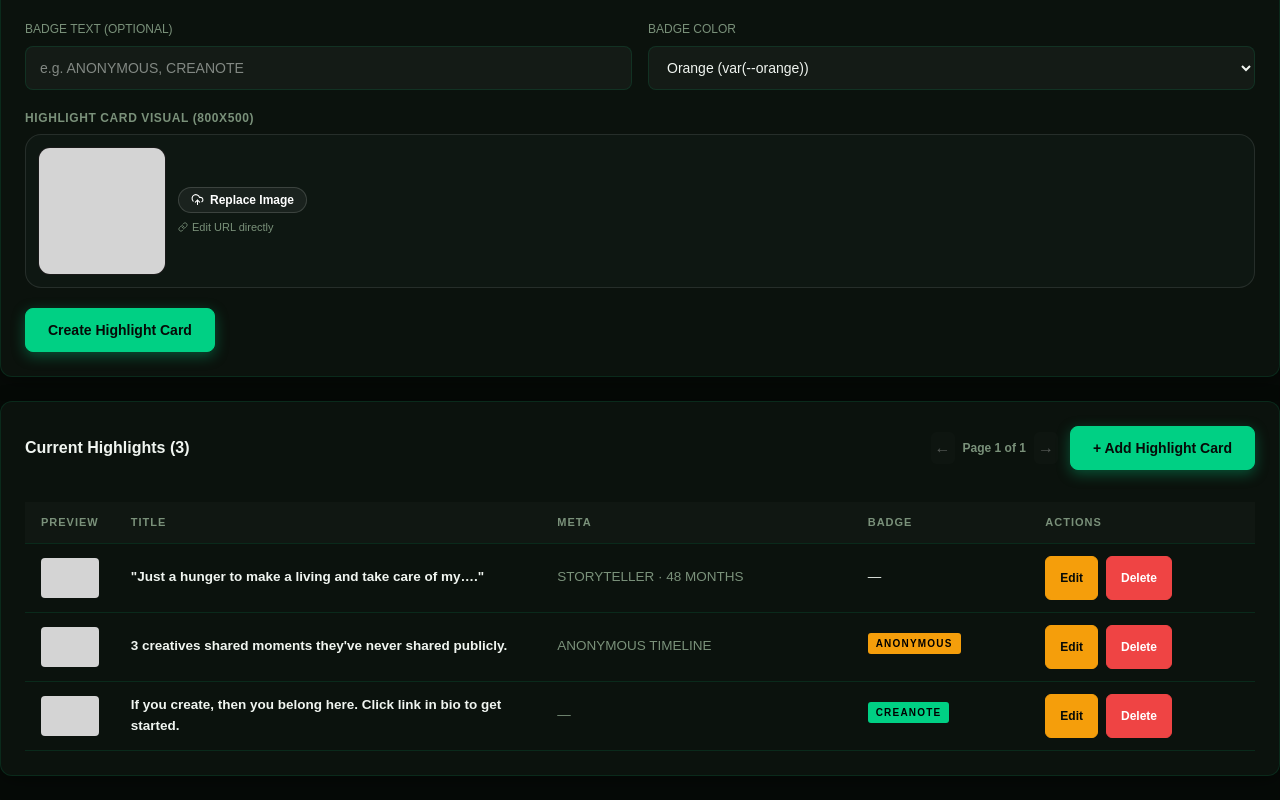
Test: Milestone 5: Admin CMS Dashboard Components › TopListManager displays current items and handles edit click
(page scrolled)
Note: Click Edit on the first item
Click the button with test id "edit-top-btn-0". click: click(1072, 578)
box: 1045,556 -> 1098,600
(page scrolled)
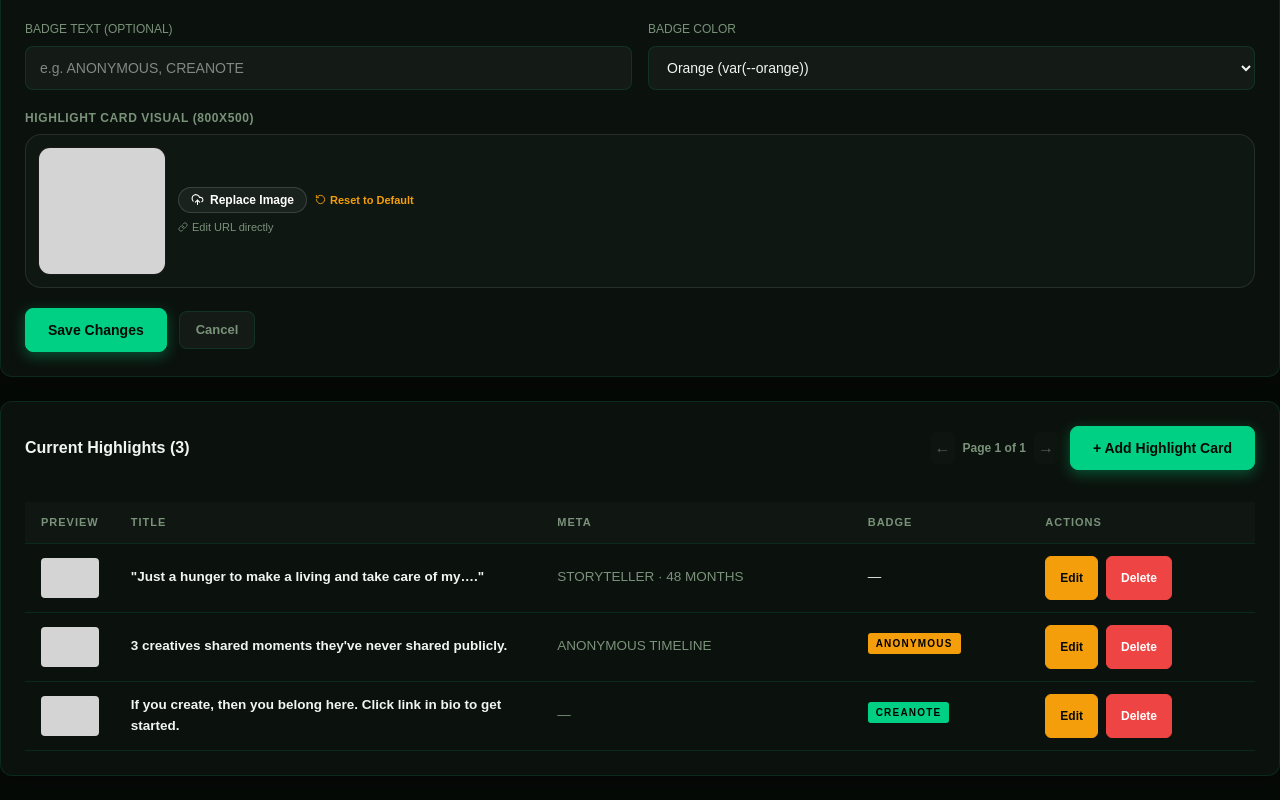
Check: the button "Save Changes" is shown, box 25,308 -> 167,352
